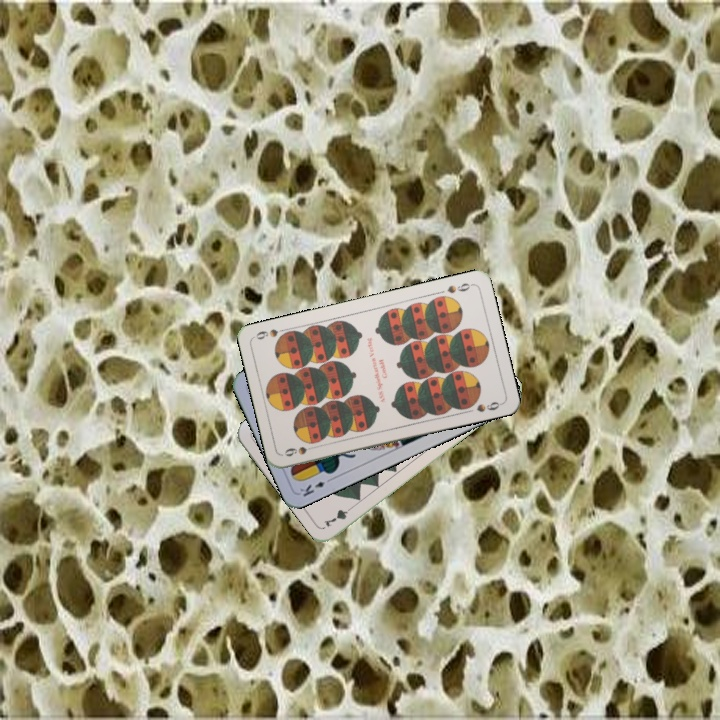EK: (296, 474, 335, 500)
G7: (320, 501, 357, 530)
S9: (281, 441, 320, 459), (443, 279, 475, 296)
